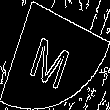M_NE: (31, 23, 79, 87)
